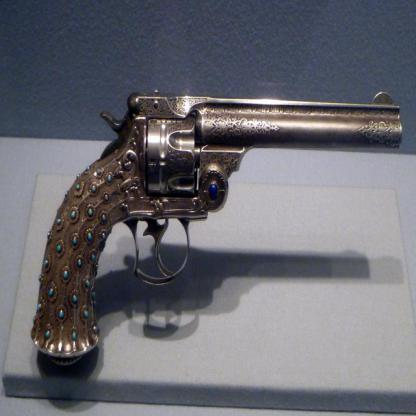Handgun: (30, 90, 402, 365)
